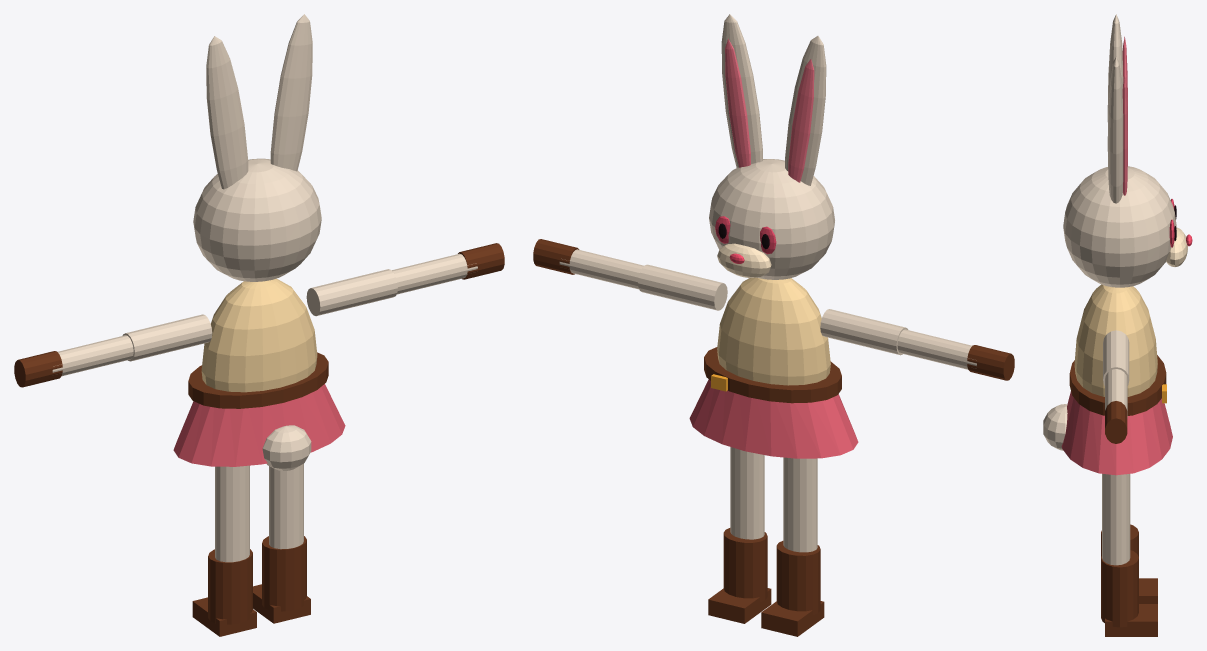
Rendered from female_rabbit_tpose_lowpoly.obj.
3 views of the same model, side by side, from view 1: azimuth 30°, elevation 25°; view 2: azimuth 150°, elevation 25°; view 3: azimuth 270°, elevation 25° (orthographic). The views are drawn at different scales.
Bounding box in the file's own units: 2.84 × 3.38 × 0.7871.
